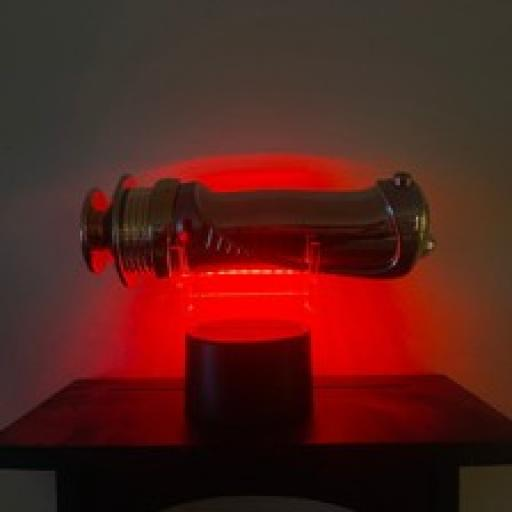lightsaber: (78, 154, 442, 288)
